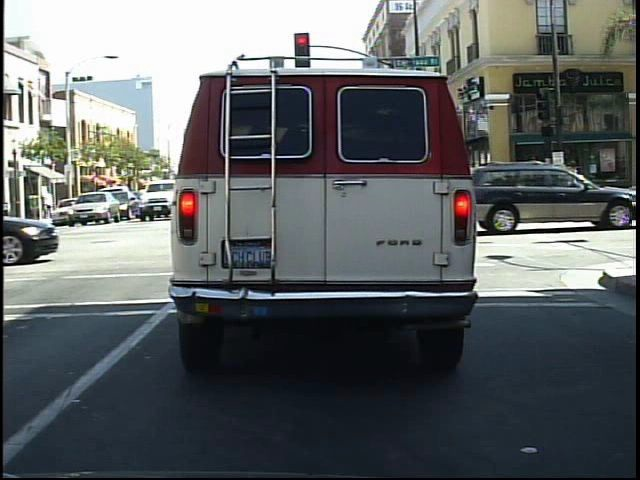person: (549, 146, 572, 209), (537, 154, 561, 212), (514, 157, 538, 212), (567, 157, 587, 207)
